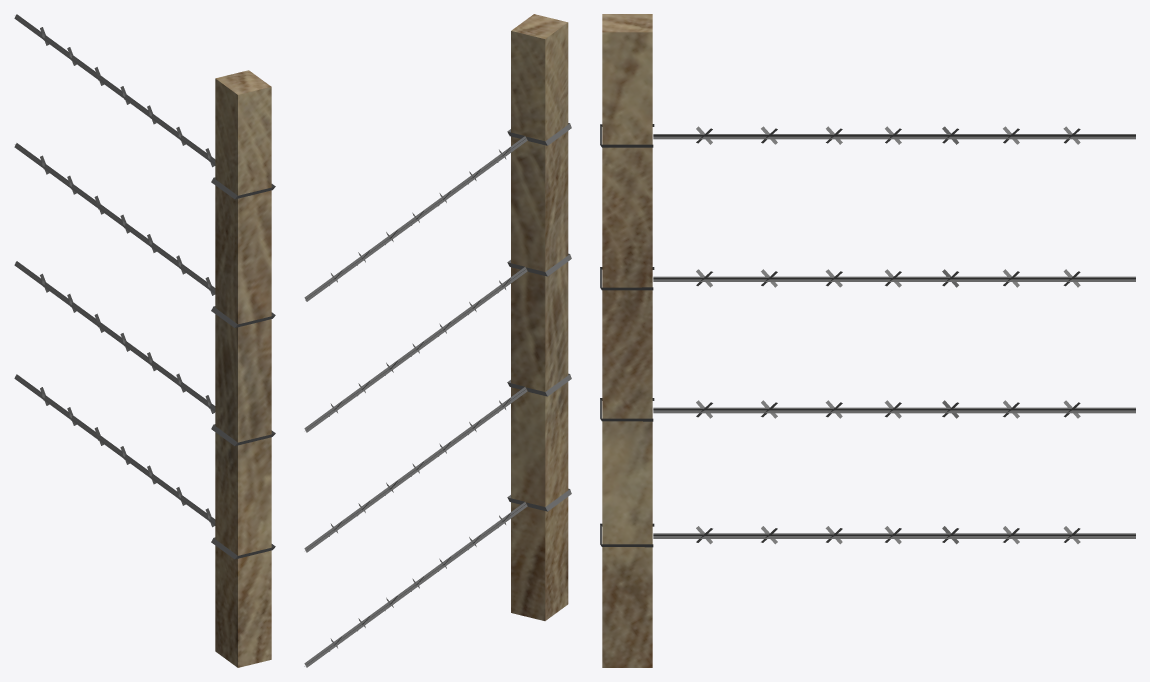
File: barbed-fence-medium-no-angle.glb
3 renders of one model, left to right at view 1: azimuth 30°, elevation 25°; view 2: azimuth 150°, elevation 25°; view 3: azimuth 270°, elevation 25°, orthographic. The views are drawn at different scales.
Visible parts, largest first — view 1: Cube.025; view 2: Cube.025; view 3: Cube.025.
Boxes of the visible parts, x1,y1,x2,y2 form: Cube.025: (14,14,275,667); Cube.025: (304,14,571,667); Cube.025: (600,14,1135,667).
Size of the model in its own units: 0.0941 by 1.28 by 0.9747.
Materials: 3 (1 with a texture image).
